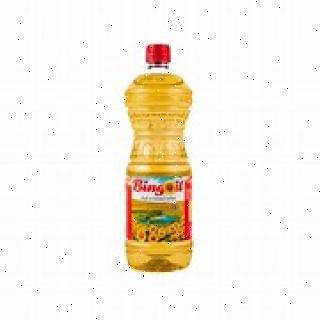Plastic-bottle: (122, 41, 199, 277)
